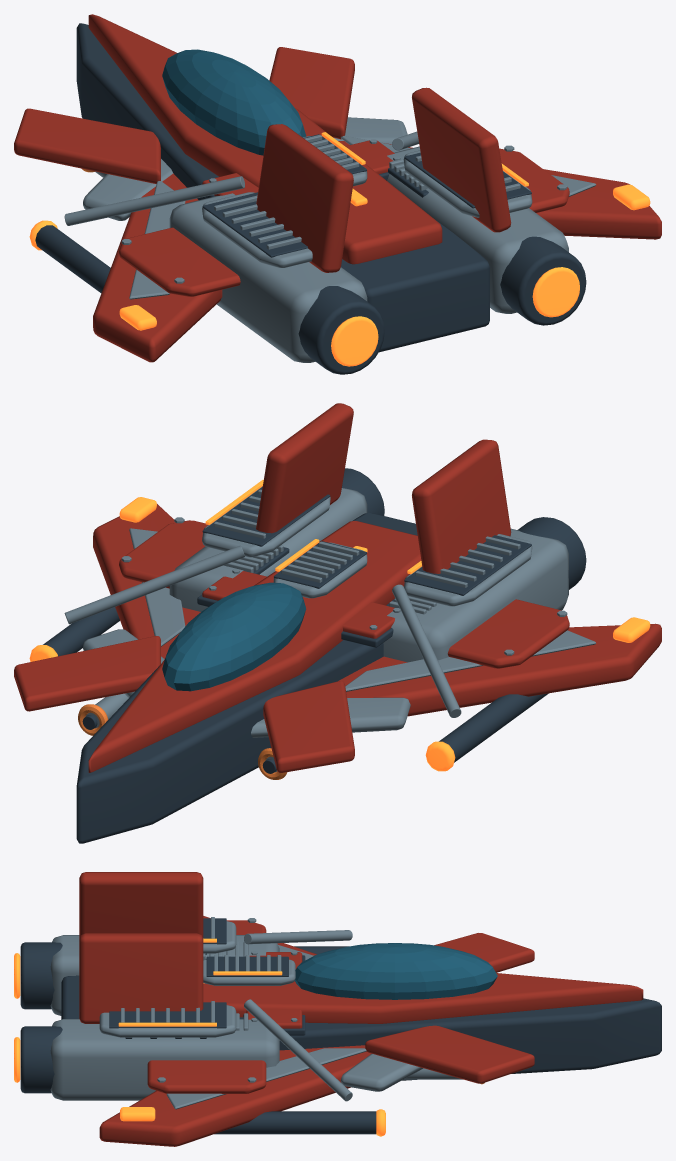
The model's file is Interceptor.fbx.
The picture shows the model from 3 angles, top to bottom: view 1: azimuth 30°, elevation 25°; view 2: azimuth 150°, elevation 25°; view 3: azimuth 270°, elevation 25°; orthographic projection. The views are drawn at different scales.
Parts seen in each view (by area): view 1: Tapered titanium fuselage.004, Upper ceramic spine.004, Engine nacelle.008, Vertical stabilizer.008, Smoked canopy.004, Vertical stabilizer.009, Intercept forward fin.004, Swept main wing.008, Engine nacelle.009, Intercept forward fin.005, Inset service armor.228, Swept main wing.009 (+18 smaller); view 2: Tapered titanium fuselage.004, Upper ceramic spine.004, Swept main wing.008, Smoked canopy.004, Vertical stabilizer.008, Engine nacelle.008, Vertical stabilizer.009, Intercept forward fin.005, Intercept forward fin.004, Inset service armor.228, Swept main wing.009, Engine nacelle.009 (+22 smaller); view 3: Tapered titanium fuselage.004, Upper ceramic spine.004, Engine nacelle.009, Vertical stabilizer.009, Smoked canopy.004, Swept main wing.009, Vertical stabilizer.008, Intercept forward fin.005, Inset service armor.230, Wing cannon.009, Exhaust shroud.008, Exhaust shroud.009 (+15 smaller).
Boxes of the visible parts, bbox=[...] form: Tapered titanium fuselage.004: bbox=[76, 23, 489, 352]; Upper ceramic spine.004: bbox=[88, 14, 442, 264]; Engine nacelle.008: bbox=[169, 193, 367, 362]; Vertical stabilizer.008: bbox=[256, 124, 353, 272]; Smoked canopy.004: bbox=[162, 49, 306, 155]; Vertical stabilizer.009: bbox=[412, 87, 511, 232]; Intercept forward fin.004: bbox=[14, 108, 160, 183]; Swept main wing.008: bbox=[93, 173, 222, 362]; Engine nacelle.009: bbox=[387, 146, 568, 313]; Intercept forward fin.005: bbox=[269, 47, 354, 139]; Inset service armor.228: bbox=[119, 227, 240, 296]; Swept main wing.009: bbox=[338, 141, 661, 239]; Tapered titanium fuselage.004: bbox=[76, 513, 417, 843]; Upper ceramic spine.004: bbox=[88, 521, 421, 772]; Swept main wing.008: bbox=[338, 623, 661, 716]; Smoked canopy.004: bbox=[162, 582, 305, 691]; Vertical stabilizer.008: bbox=[412, 439, 511, 573]; Engine nacelle.008: bbox=[383, 528, 568, 662]; Vertical stabilizer.009: bbox=[256, 403, 353, 533]; Intercept forward fin.005: bbox=[14, 636, 160, 711]; Intercept forward fin.004: bbox=[263, 681, 354, 772]; Inset service armor.228: bbox=[447, 599, 569, 668]; Swept main wing.009: bbox=[93, 504, 200, 658]; Engine nacelle.009: bbox=[169, 488, 367, 611]; Tapered titanium fuselage.004: bbox=[61, 975, 661, 1080]; Upper ceramic spine.004: bbox=[203, 964, 643, 1023]; Engine nacelle.009: bbox=[50, 1019, 279, 1100]; Vertical stabilizer.009: bbox=[79, 933, 203, 1023]; Smoked canopy.004: bbox=[294, 943, 497, 999]; Swept main wing.009: bbox=[99, 1045, 371, 1146]; Vertical stabilizer.008: bbox=[79, 872, 203, 938]; Intercept forward fin.005: bbox=[365, 1025, 534, 1083]; Inset service armor.230: bbox=[147, 1060, 266, 1093]; Wing cannon.009: bbox=[214, 1111, 376, 1134]; Exhaust shroud.008: bbox=[20, 942, 62, 1009]; Exhaust shroud.009: bbox=[20, 1026, 62, 1093].
Size of the model in its own units: 299 by 94.7 by 365.
